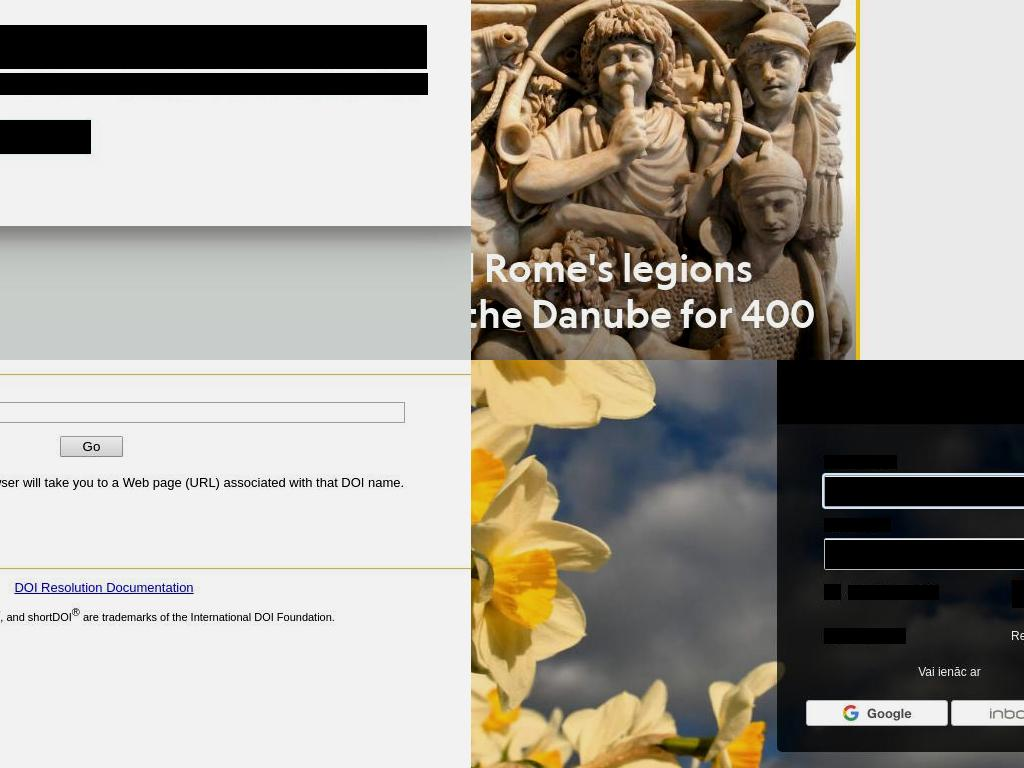button: (0, 120, 91, 154), (824, 628, 906, 644), (1011, 628, 1024, 644)
field: (0, 402, 406, 424), (825, 477, 1024, 506), (825, 540, 1024, 569), (59, 436, 124, 458)
heading: (0, 25, 427, 69)
image: (471, 0, 856, 360), (471, 0, 846, 360), (777, 360, 1024, 424), (805, 700, 948, 726), (951, 700, 1024, 726), (824, 584, 841, 600)
link: (14, 580, 194, 595), (268, 73, 363, 95), (123, 73, 215, 95), (24, 73, 74, 95), (384, 73, 424, 95), (223, 73, 261, 95)
text: (471, 244, 823, 360), (0, 506, 471, 527), (804, 664, 1024, 700), (0, 475, 405, 491), (79, 610, 335, 623), (848, 585, 939, 600), (74, 73, 125, 95), (824, 455, 897, 469), (824, 518, 891, 532), (0, 610, 72, 623), (362, 73, 385, 95), (214, 73, 223, 95), (259, 73, 268, 95), (423, 73, 428, 95), (71, 606, 80, 618)
